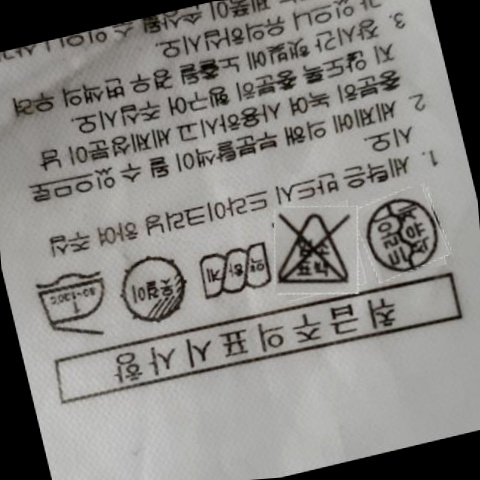dry_clean_petrol_only: (365, 189, 443, 279)
iron_low: (36, 265, 118, 341)
line_dry_in_shade: (116, 247, 199, 331)
non_chlorine_bleach: (276, 208, 358, 290)
wring: (197, 236, 277, 306)
